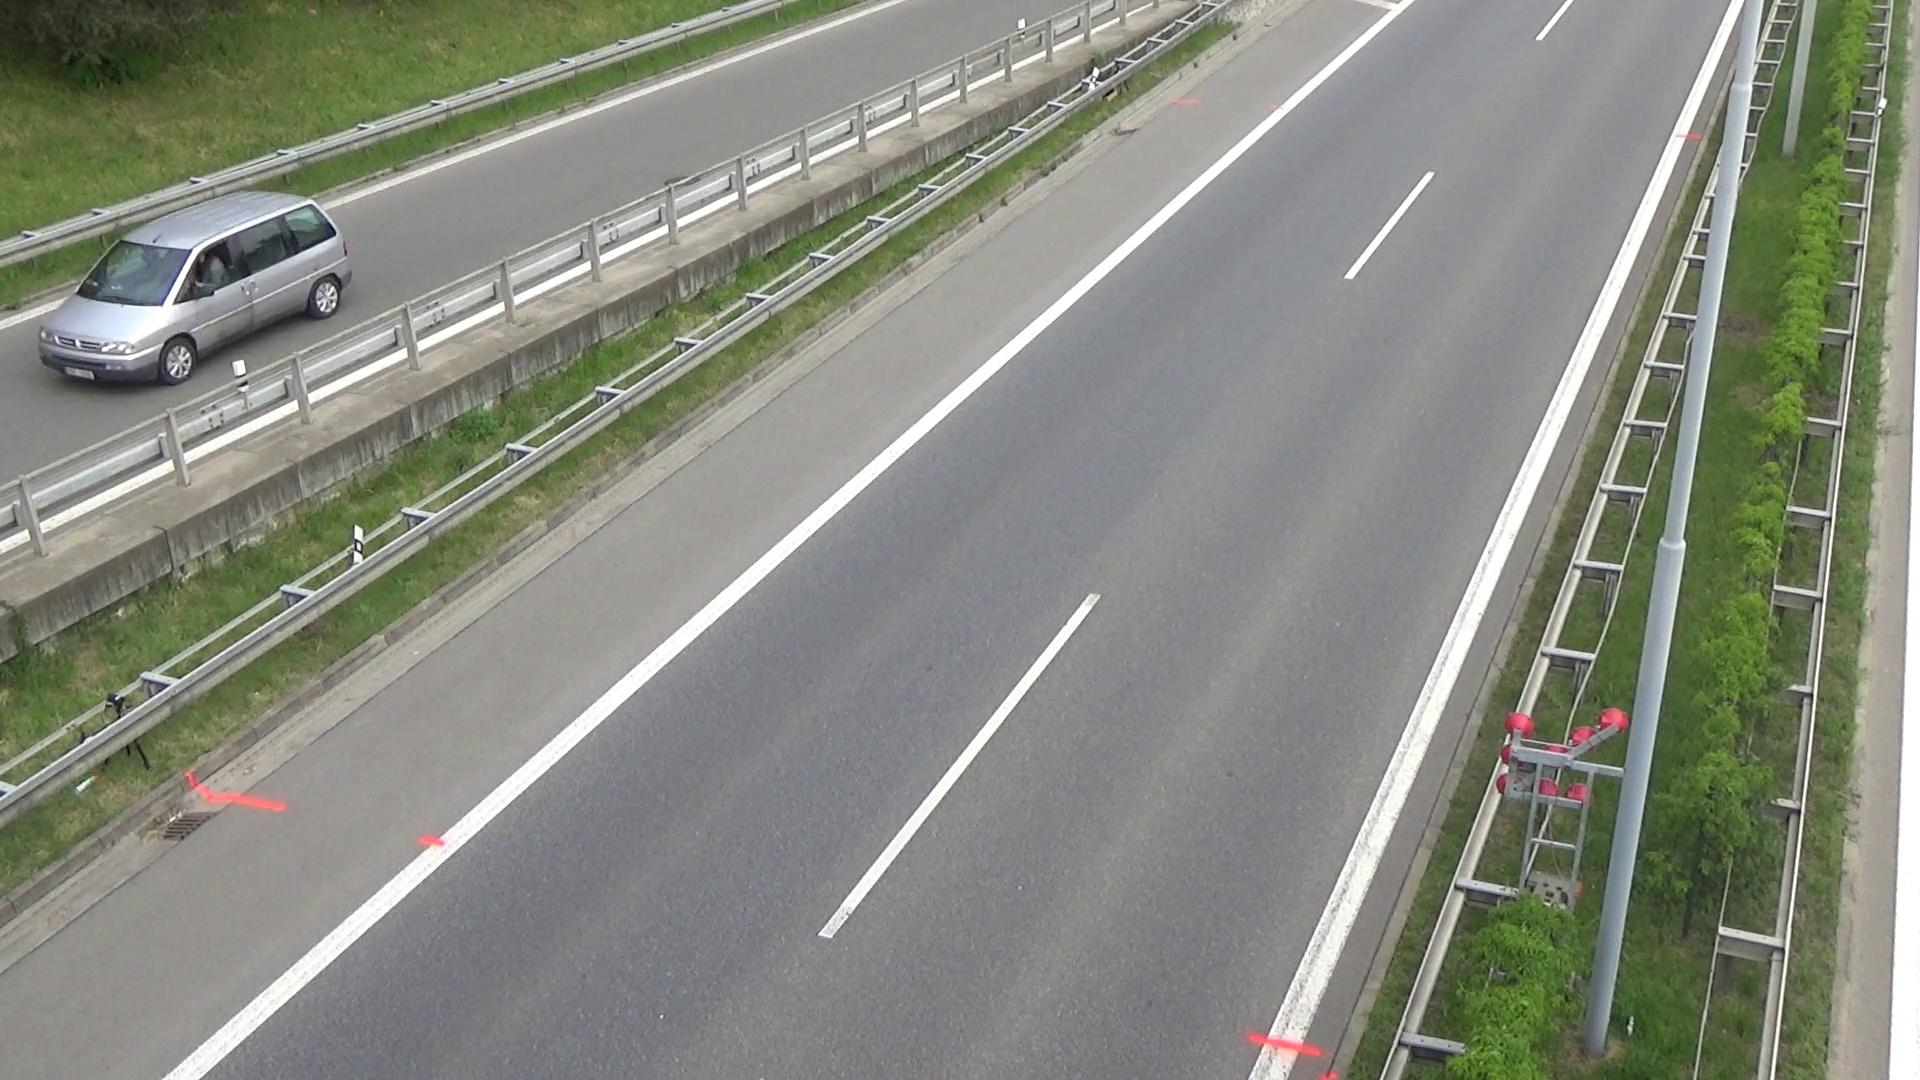Car: (32, 166, 364, 403)
Pedestrian: (1530, 520, 1750, 1079)
